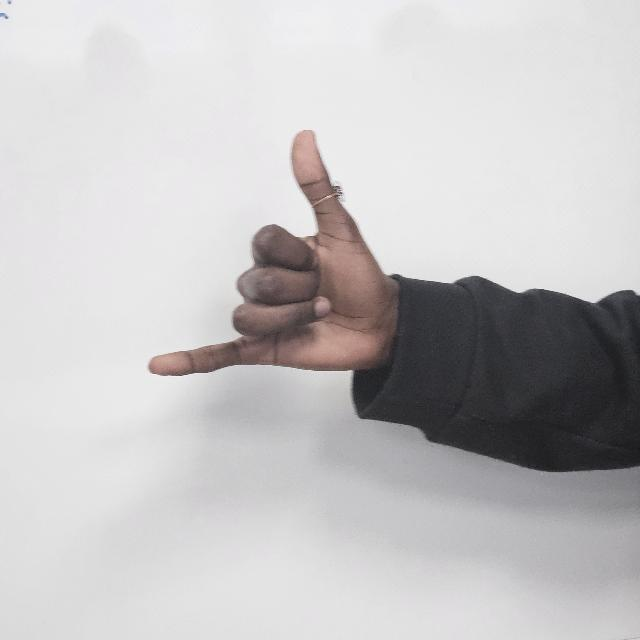Direita: (146, 126, 394, 408)
